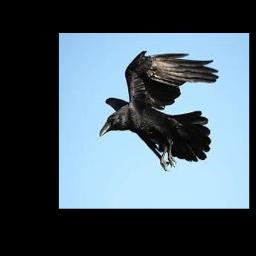Crow: (100, 49, 220, 172)
